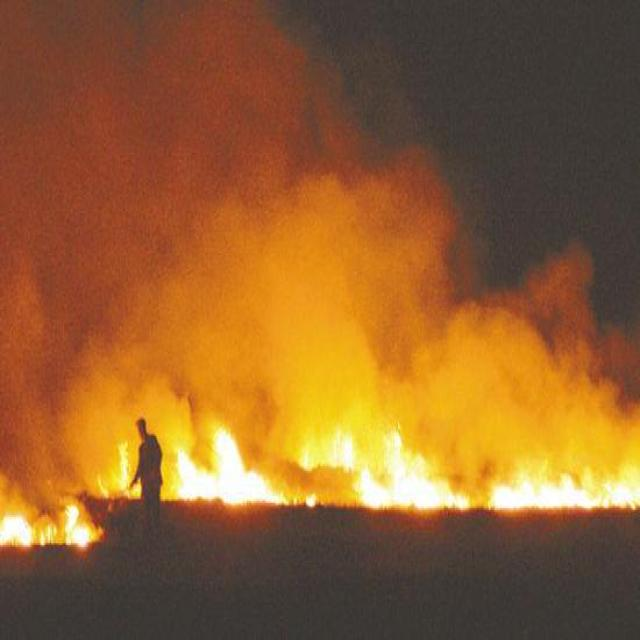fire: (169, 410, 636, 511), (0, 470, 105, 549)
smoke: (150, 158, 612, 440)
